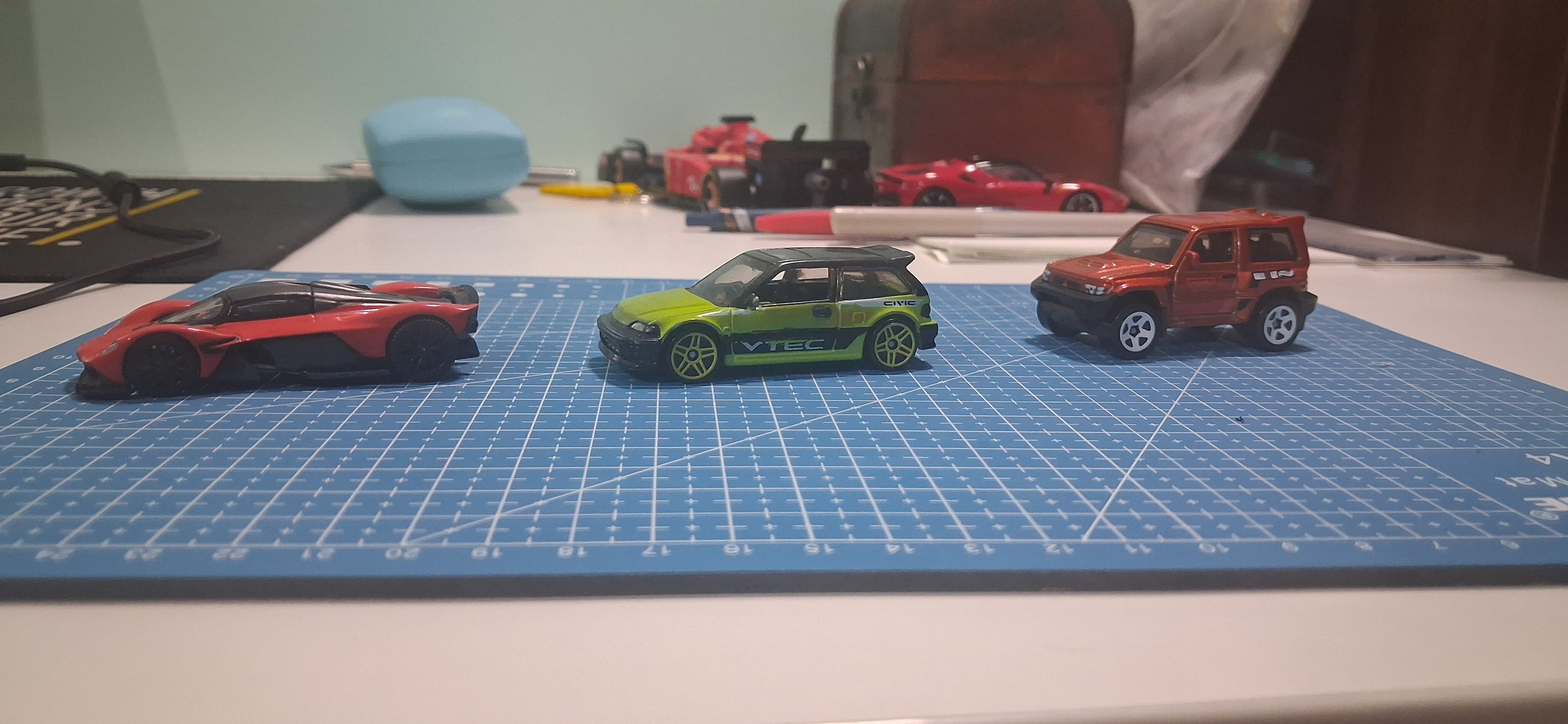Aston_Martin_Valkyrie: (52, 226, 506, 409)
Honda_Civic: (561, 214, 961, 392)
Mitsubishi_Pajero_Evolution: (1016, 175, 1335, 375)
